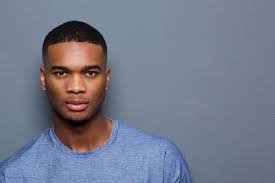no-mask: (34, 21, 119, 126)
